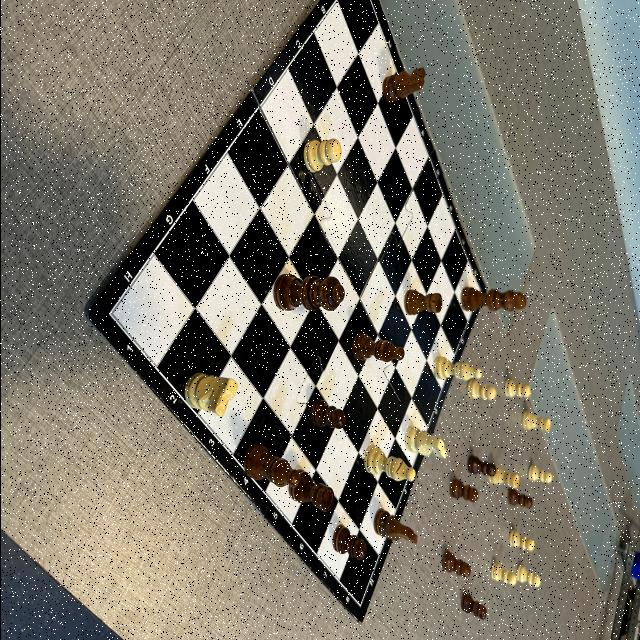Black-Bishop: (242, 443, 300, 488), (350, 332, 404, 362)
Black-King: (460, 286, 526, 312)
Black-Knight: (372, 508, 417, 544), (381, 68, 425, 104)
Black-Pawn: (332, 524, 366, 560), (309, 398, 345, 429), (440, 550, 470, 578), (460, 591, 486, 620), (448, 478, 477, 502), (466, 454, 496, 476), (506, 489, 532, 509)
Black-Queen: (272, 274, 344, 312)
Black-Rook: (299, 469, 334, 513), (402, 290, 442, 316)
White-Bishop: (362, 444, 414, 482), (432, 356, 481, 381)
White-Knight: (184, 372, 238, 418), (404, 426, 446, 460)
White-Pawn: (302, 138, 340, 174), (466, 378, 496, 401), (490, 562, 516, 586), (508, 530, 534, 552), (502, 378, 530, 398), (516, 566, 540, 588), (527, 464, 551, 484)
White-Rook: (520, 410, 550, 432), (494, 466, 518, 488)
